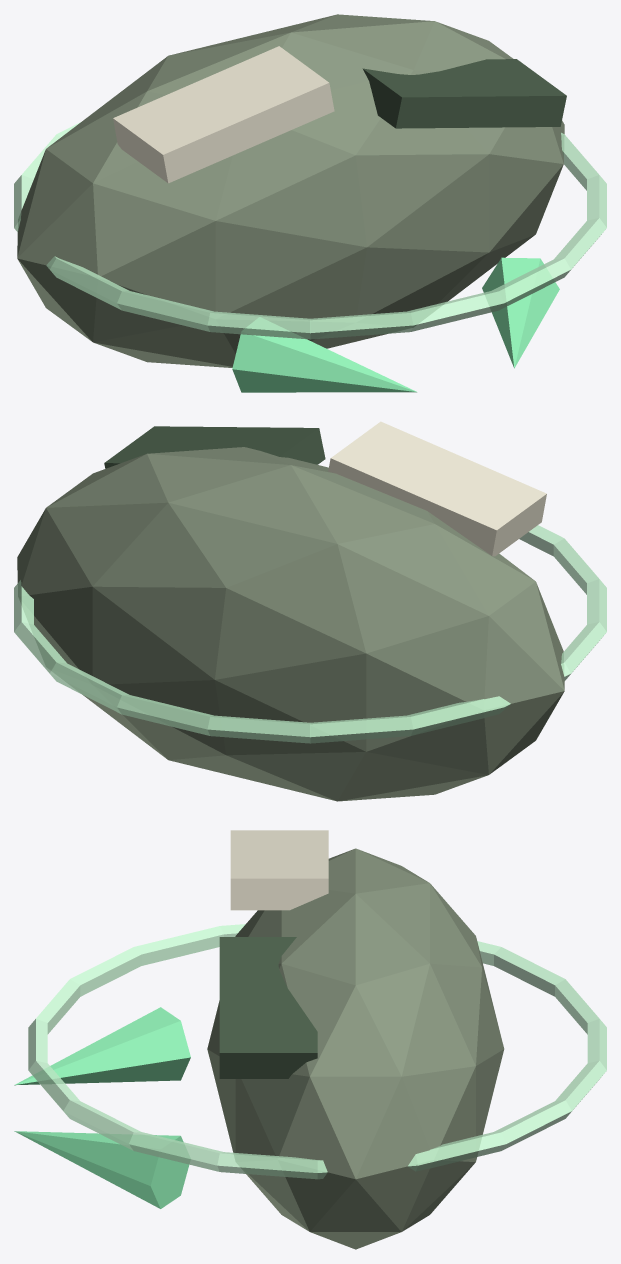
The model's file is 02_monster_skin_attachment.glb.
3 views of the same model, one above another, from view 1: azimuth 30°, elevation 25°; view 2: azimuth 150°, elevation 25°; view 3: azimuth 270°, elevation 25° (orthographic). The views are drawn at different scales.
Visible parts, largest first — view 1: skin_variant_body_proxy, armor_or_hide_patch_a, spawn_uniqueness_ring, armor_or_hide_patch_b, variant_horn_l, variant_horn_r; view 2: skin_variant_body_proxy, spawn_uniqueness_ring, armor_or_hide_patch_a, armor_or_hide_patch_b; view 3: skin_variant_body_proxy, spawn_uniqueness_ring, armor_or_hide_patch_b, armor_or_hide_patch_a, variant_horn_l, variant_horn_r.
Boxes of the visible parts, x1=… form: skin_variant_body_proxy: x1=17, y1=14, x2=564, y2=367; armor_or_hide_patch_a: x1=113, y1=46, x2=334, y2=183; spawn_uniqueness_ring: x1=14, y1=122, x2=606, y2=339; armor_or_hide_patch_b: x1=362, y1=59, x2=566, y2=128; variant_horn_l: x1=232, y1=318, x2=417, y2=392; variant_horn_r: x1=482, y1=257, x2=559, y2=368; skin_variant_body_proxy: x1=17, y1=447, x2=564, y2=801; spawn_uniqueness_ring: x1=14, y1=525, x2=606, y2=743; armor_or_hide_patch_a: x1=328, y1=421, x2=546, y2=556; armor_or_hide_patch_b: x1=104, y1=426, x2=325, y2=468; skin_variant_body_proxy: x1=207, y1=848, x2=504, y2=1249; spawn_uniqueness_ring: x1=28, y1=924, x2=606, y2=1179; armor_or_hide_patch_b: x1=219, y1=937, x2=317, y2=1078; armor_or_hide_patch_a: x1=230, y1=830, x2=328, y2=910; variant_horn_l: x1=14, y1=1007, x2=190, y2=1085; variant_horn_r: x1=14, y1=1131, x2=189, y2=1208.
Size of the model in its own units: 1.13 by 0.6358 by 1.09.
